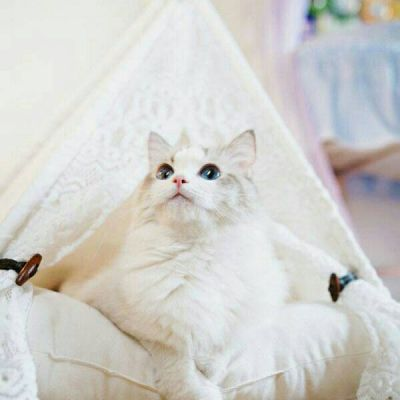cat: (129, 125, 272, 236)
